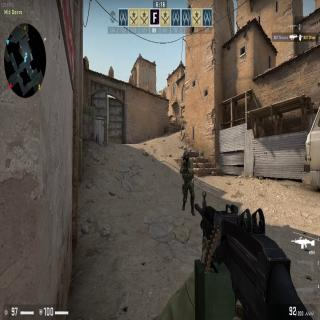T-Body: (182, 150, 194, 213)
T-Head: (183, 150, 189, 162)
